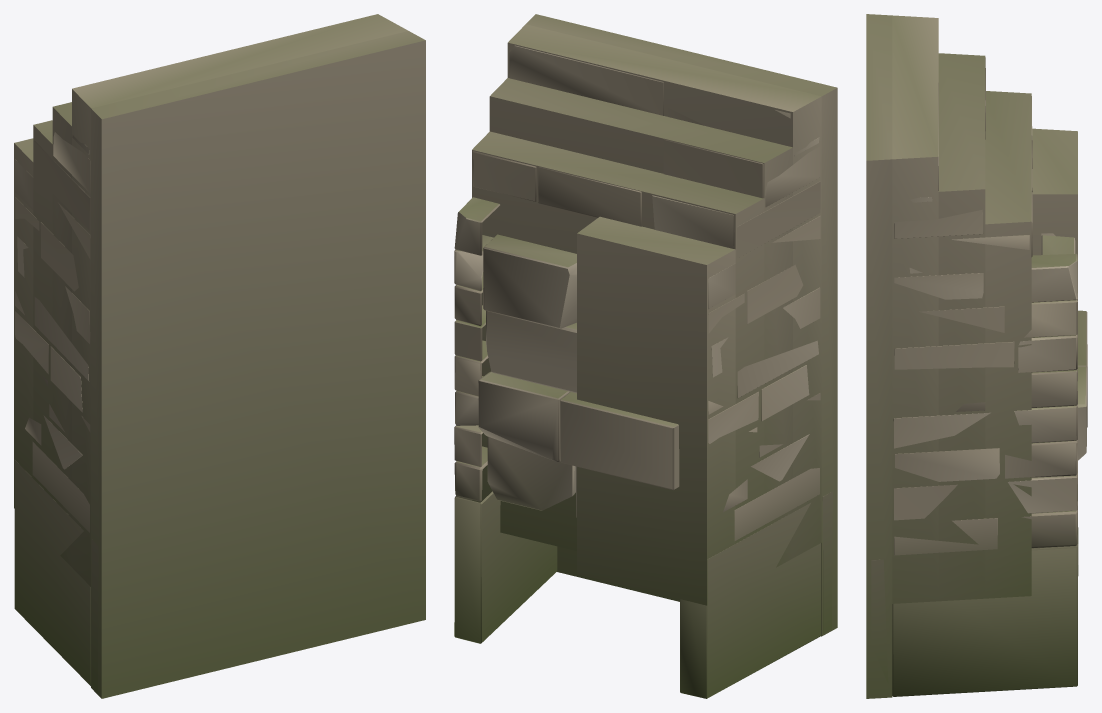
File: arena_seats_broken_b.glb
3 views of the same model, side by side, from view 1: azimuth 30°, elevation 25°; view 2: azimuth 150°, elevation 25°; view 3: azimuth 270°, elevation 25° (orthographic). The views are drawn at different scales.
Parts seen in each view (by area): view 1: arena_seats_broken_b_far, arena_seats_broken_b; view 2: arena_seats_broken_b_far, arena_seats_broken_b; view 3: arena_seats_broken_b_far, arena_seats_broken_b.
Boxes of the visible parts, x1,y1,x2,y2 form: arena_seats_broken_b_far: (14, 14, 425, 698); arena_seats_broken_b: (14, 132, 98, 692); arena_seats_broken_b_far: (472, 14, 837, 636); arena_seats_broken_b: (454, 45, 832, 698); arena_seats_broken_b_far: (866, 14, 1077, 698); arena_seats_broken_b: (871, 57, 1087, 696).
Bounding box in the file's own units: 13.46 × 23.01 × 8.56.
